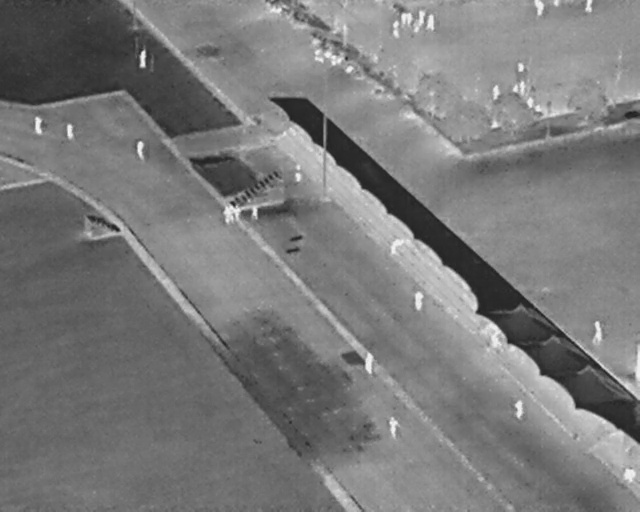DontCare: (311, 39, 359, 74)
Person: (486, 324, 500, 351), (591, 318, 604, 347), (387, 415, 400, 438), (363, 350, 373, 376), (135, 138, 146, 161), (413, 290, 423, 312), (294, 163, 303, 184), (514, 399, 523, 419), (34, 115, 43, 134), (66, 122, 74, 140), (427, 14, 435, 32), (139, 48, 146, 67), (492, 84, 500, 100), (235, 204, 242, 221), (228, 205, 235, 222), (537, 1, 544, 17), (585, 0, 593, 14), (224, 206, 230, 223), (393, 20, 399, 37), (252, 204, 258, 220), (517, 61, 524, 74), (526, 96, 533, 109), (407, 12, 413, 27), (520, 80, 525, 97), (413, 20, 419, 34), (419, 10, 425, 24), (401, 12, 406, 27), (536, 103, 542, 113), (513, 83, 518, 92), (554, 0, 560, 7)
